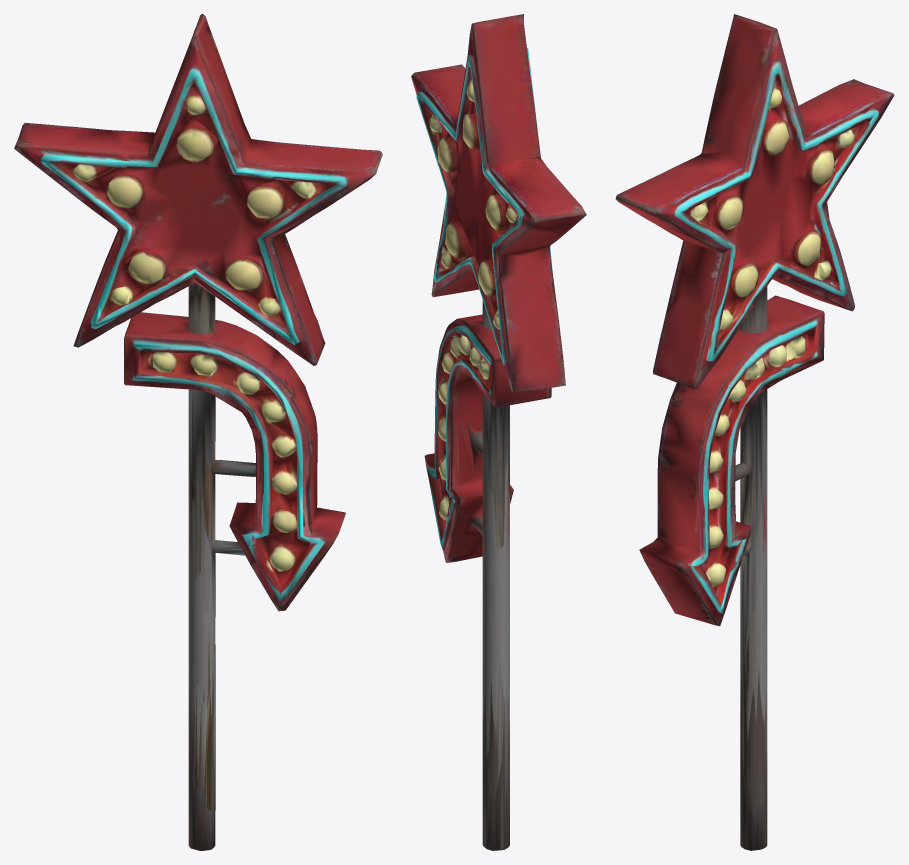
Rendered from prop_mile_sign.glb.
The picture shows the model from 3 angles, left to right: view 1: azimuth 30°, elevation 25°; view 2: azimuth 150°, elevation 25°; view 3: azimuth 270°, elevation 25°; orthographic projection.
Visible parts, largest first — view 1: tripo_node_8b0d0e71-5c3c-4190-8355-ec06ca6f84d7; view 2: tripo_node_8b0d0e71-5c3c-4190-8355-ec06ca6f84d7; view 3: tripo_node_8b0d0e71-5c3c-4190-8355-ec06ca6f84d7.
Boxes of the visible parts, x1,y1,x2,y2 form: tripo_node_8b0d0e71-5c3c-4190-8355-ec06ca6f84d7: (14,14,382,850); tripo_node_8b0d0e71-5c3c-4190-8355-ec06ca6f84d7: (411,14,586,850); tripo_node_8b0d0e71-5c3c-4190-8355-ec06ca6f84d7: (615,14,894,850).
Bounding box in the file's own units: 0.3389 × 0.9804 × 0.3011.
1 material, 1 textured.
